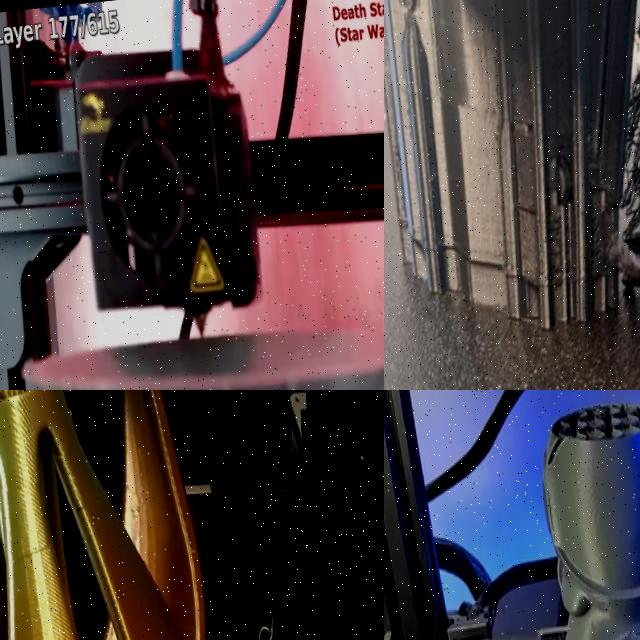spaghetti: (250, 606, 288, 640)
